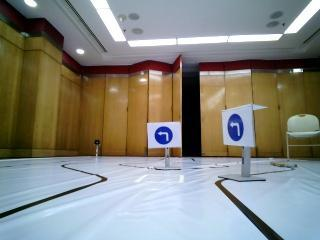left: (149, 123, 182, 148), (225, 113, 250, 142)
